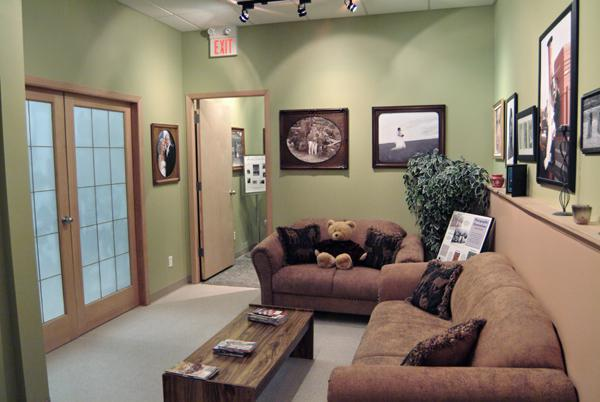Puerta: (45, 97, 137, 353), (199, 100, 230, 277)
